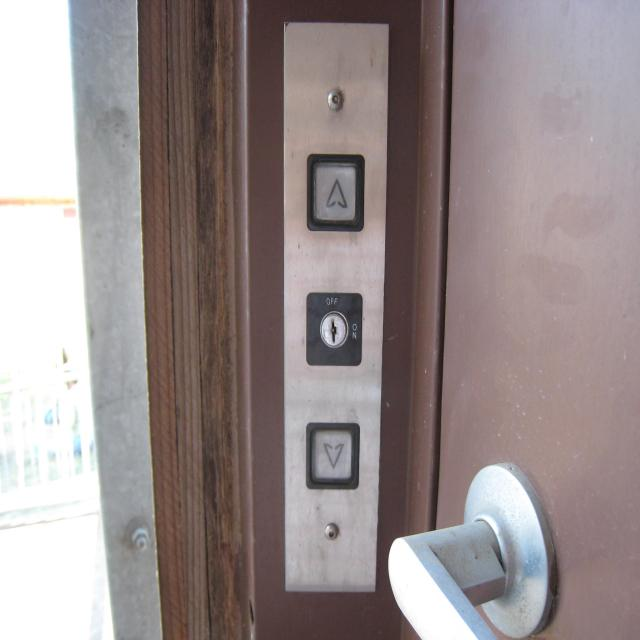bt_keyhole: (302, 283, 368, 372)
down: (305, 418, 361, 491)
up: (304, 152, 366, 234)
